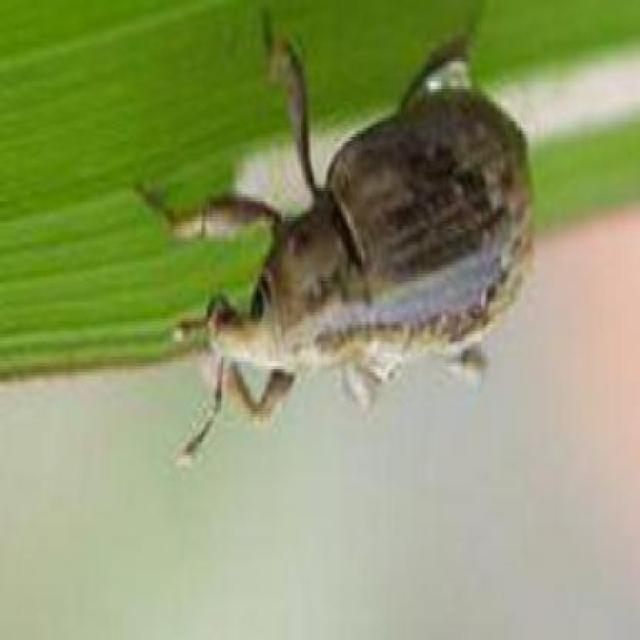rice-bug: (199, 80, 538, 426)
